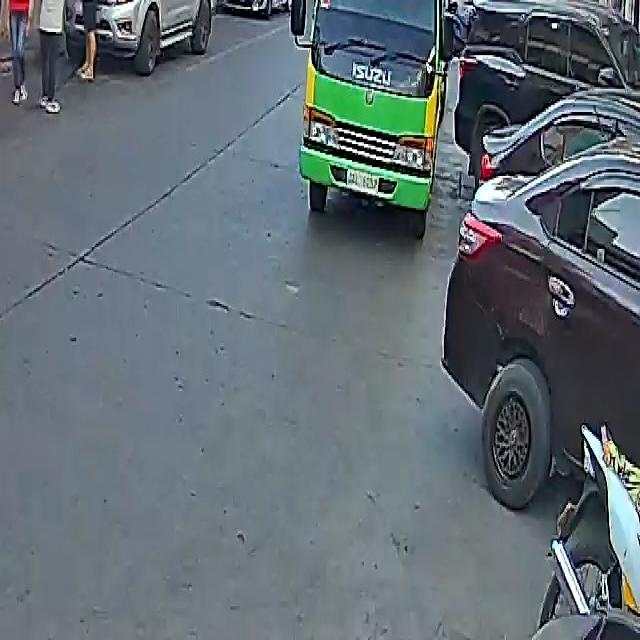car: (443, 47, 640, 534), (448, 0, 639, 185), (78, 0, 223, 68), (218, 0, 290, 18)
